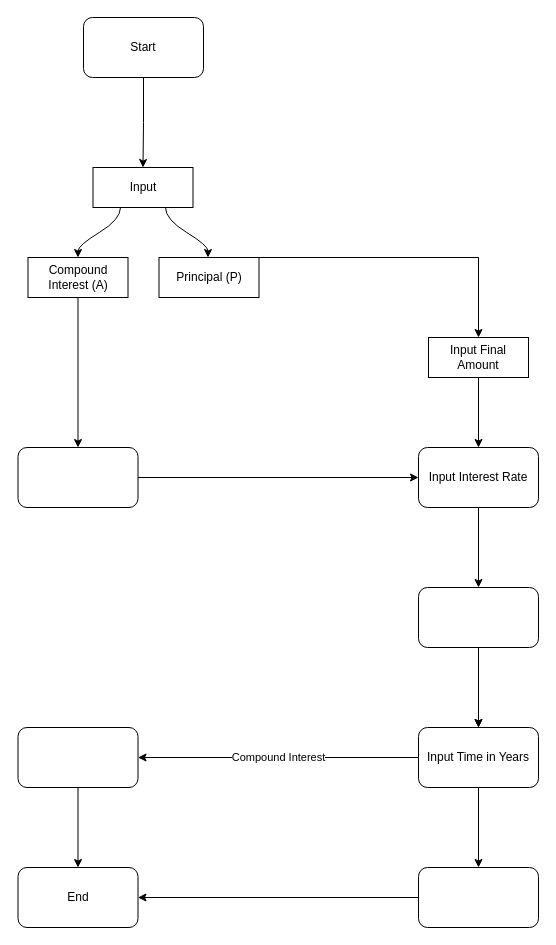
The diagram is 556 pixels wide and 945 high, and some of its shapes have lost their labels. The centre of each missing label's shape, as x and y in pixels:
Calculate A = P(1 + r/n)^n/t: (x=77, y=757)
calculate P = A(1+r/n)^n/t: (x=478, y=897)
Input Number Of Time Applied Per Time: (x=478, y=617)
Input Principal Balance: (x=77, y=477)
